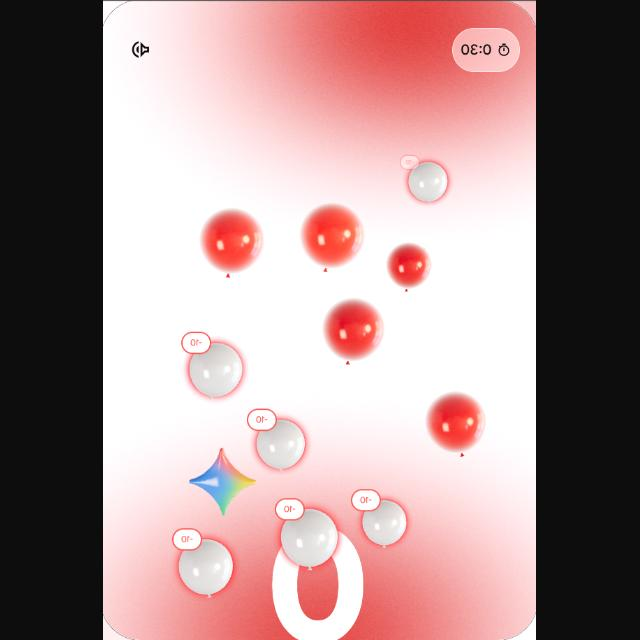gemini: (188, 442, 254, 516)
hazard: (268, 498, 342, 578), (166, 528, 238, 600), (179, 328, 245, 404), (348, 484, 414, 554), (246, 410, 312, 474), (402, 153, 454, 205)
safe: (316, 298, 386, 369), (296, 205, 366, 275), (197, 208, 266, 278), (420, 389, 486, 459), (380, 242, 434, 292)
